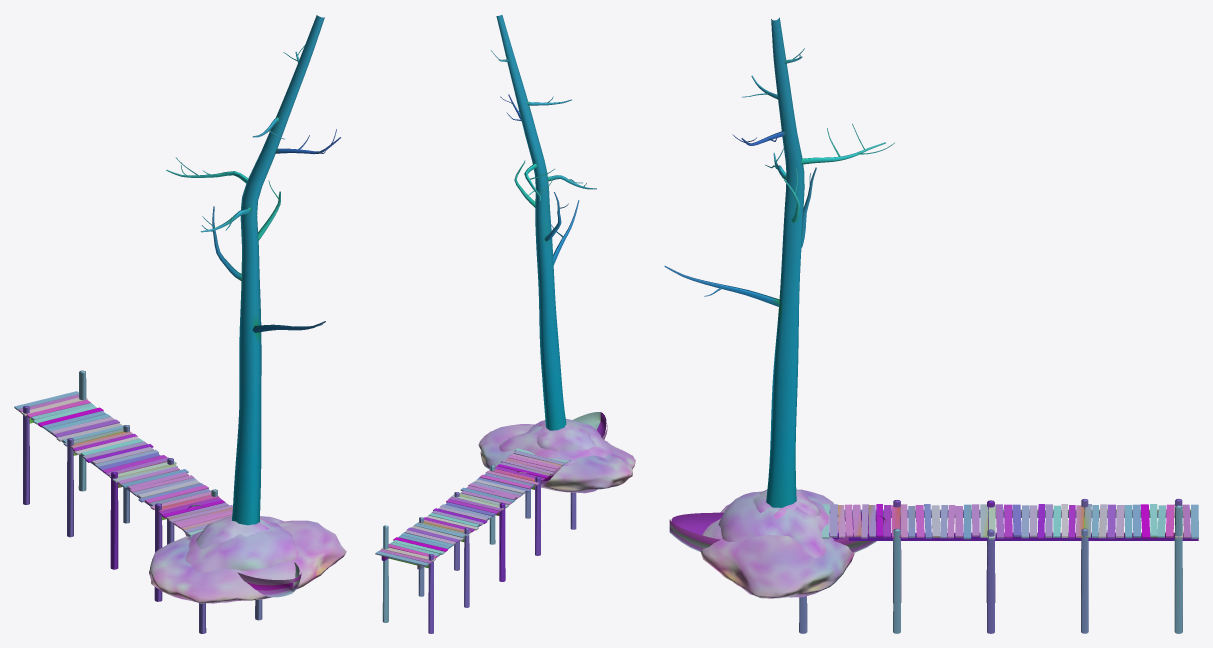
The model's file is golden-forest-props.glb.
3 renders of one model, left to right at view 1: azimuth 30°, elevation 25°; view 2: azimuth 150°, elevation 25°; view 3: azimuth 270°, elevation 25°, orthographic. The views are drawn at different scales.
Visible parts, largest first — view 1: jetty, snag, boulder_c, boulder_a, boulder_b, rowboat; view 2: jetty, snag, boulder_c, boulder_a, boulder_b, rowboat; view 3: jetty, snag, boulder_c, boulder_a, rowboat, boulder_b.
Part boxes in pixels (x1,y1,x2,y2): jetty: (14, 370, 262, 633); snag: (166, 15, 340, 525); boulder_c: (149, 520, 346, 603); boulder_a: (185, 516, 299, 572); boulder_b: (196, 515, 270, 548); rowboat: (185, 505, 301, 597); jetty: (375, 448, 576, 633); snag: (491, 15, 596, 430); boulder_c: (478, 424, 635, 493); boulder_a: (499, 418, 613, 466); boulder_b: (536, 421, 595, 451); rowboat: (514, 412, 607, 485); jetty: (799, 498, 1198, 633); snag: (664, 17, 894, 507); boulder_c: (700, 489, 854, 598); boulder_a: (718, 491, 838, 557); rowboat: (669, 512, 887, 552); boulder_b: (753, 489, 820, 519).
Size of the model in its own units: 4.58 by 14.33 by 10.83.
